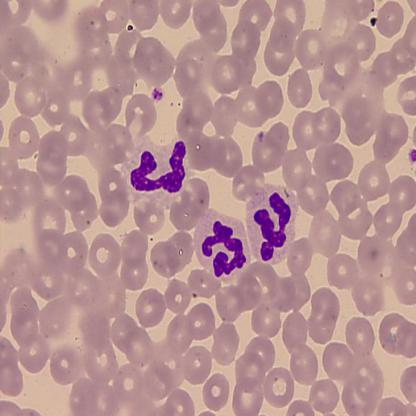Segmented neutrophil: (117, 134, 196, 207), (245, 183, 302, 268), (193, 206, 251, 286)
